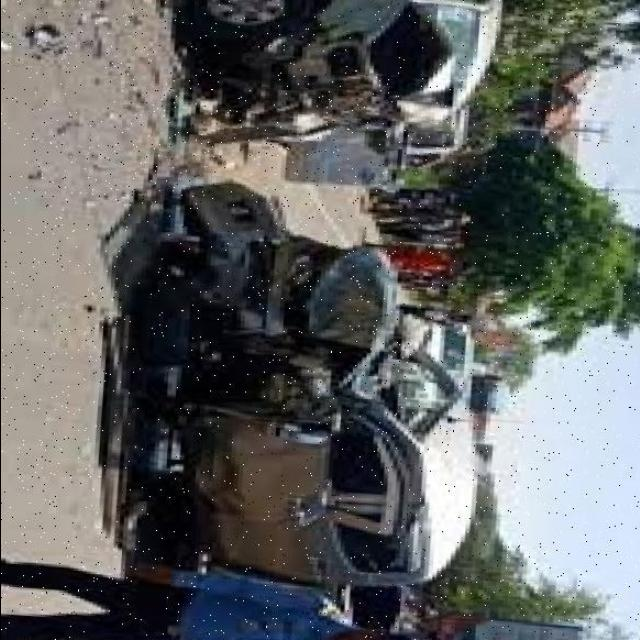accident: (95, 181, 487, 507), (157, 0, 508, 169)
